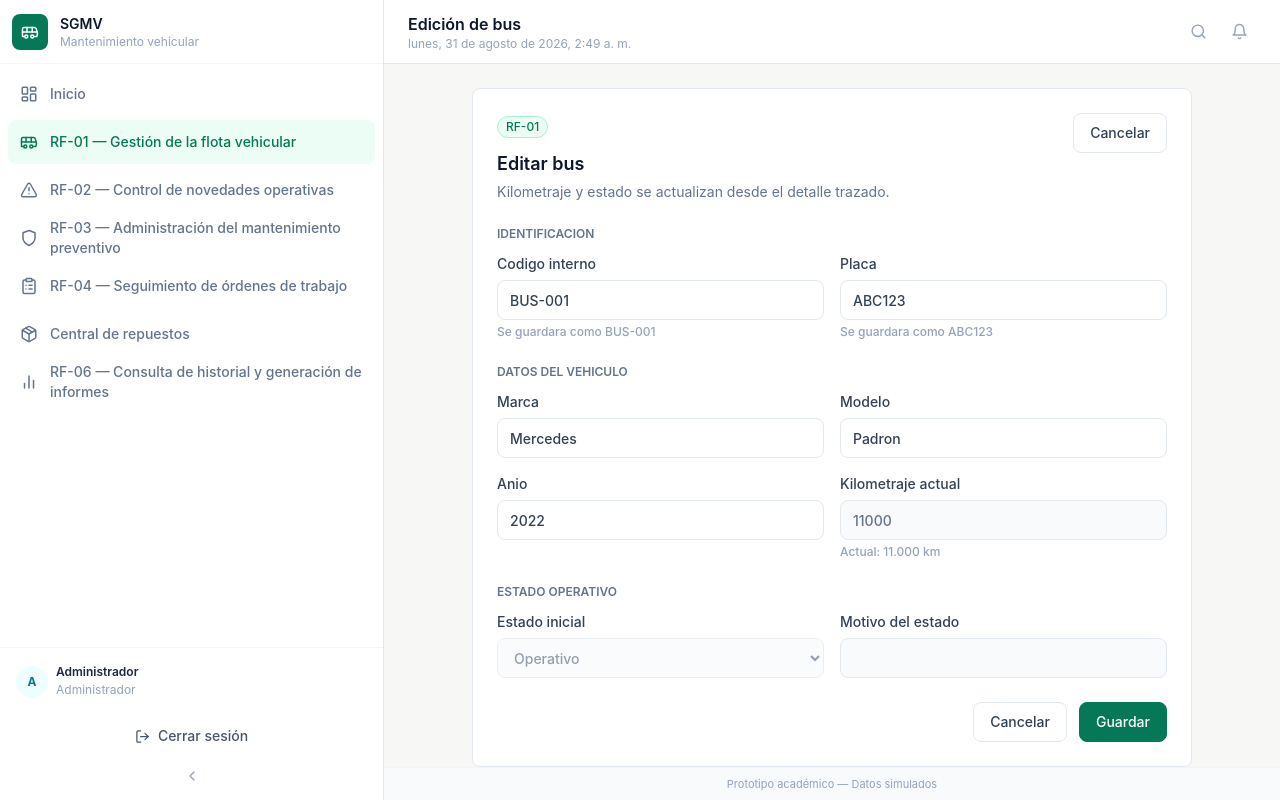
Test: RF-01 fleet frontend › edits a bus through the real PATCH endpoint
Step 1. Replace the text in the field labelled "Marca" with "Volvo" → (660, 438), box [497,418,824,458]
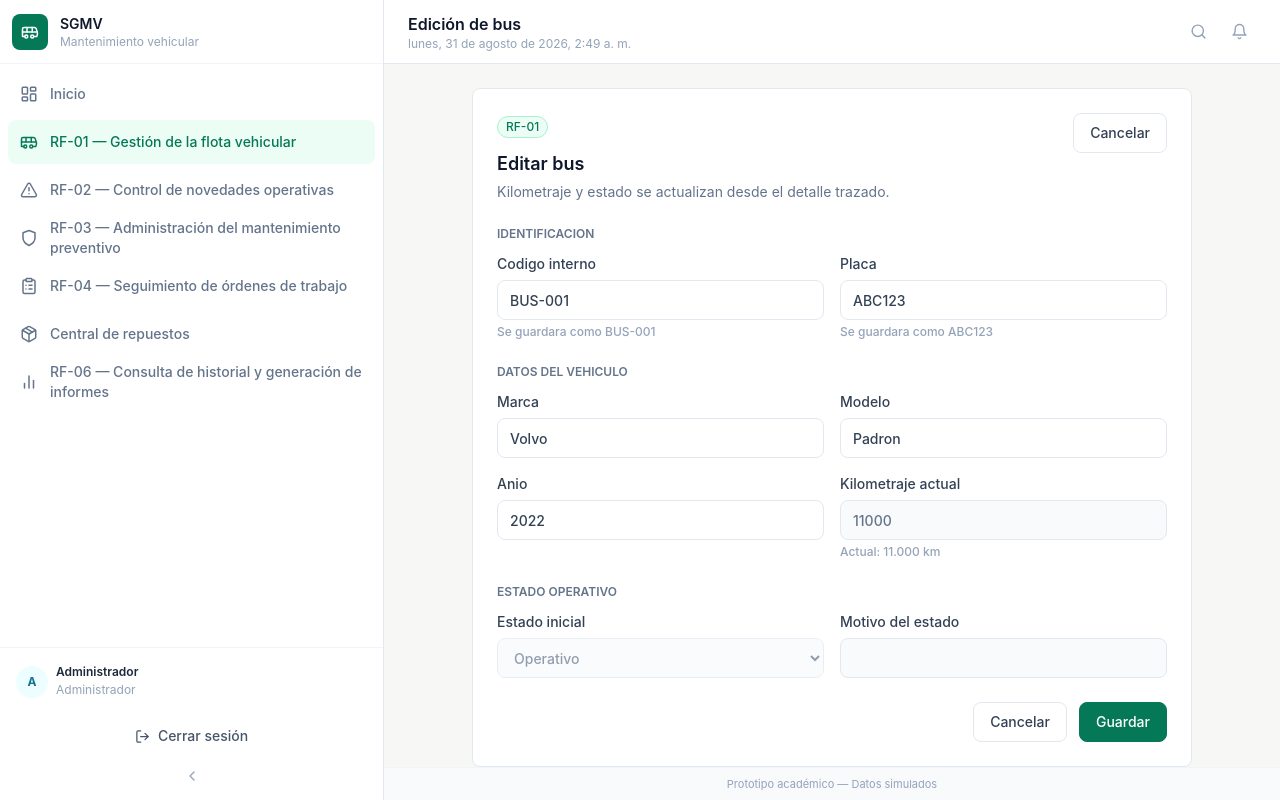
Step 2. Click the button "Guardar" → (1123, 722), box [1079,702,1167,742]
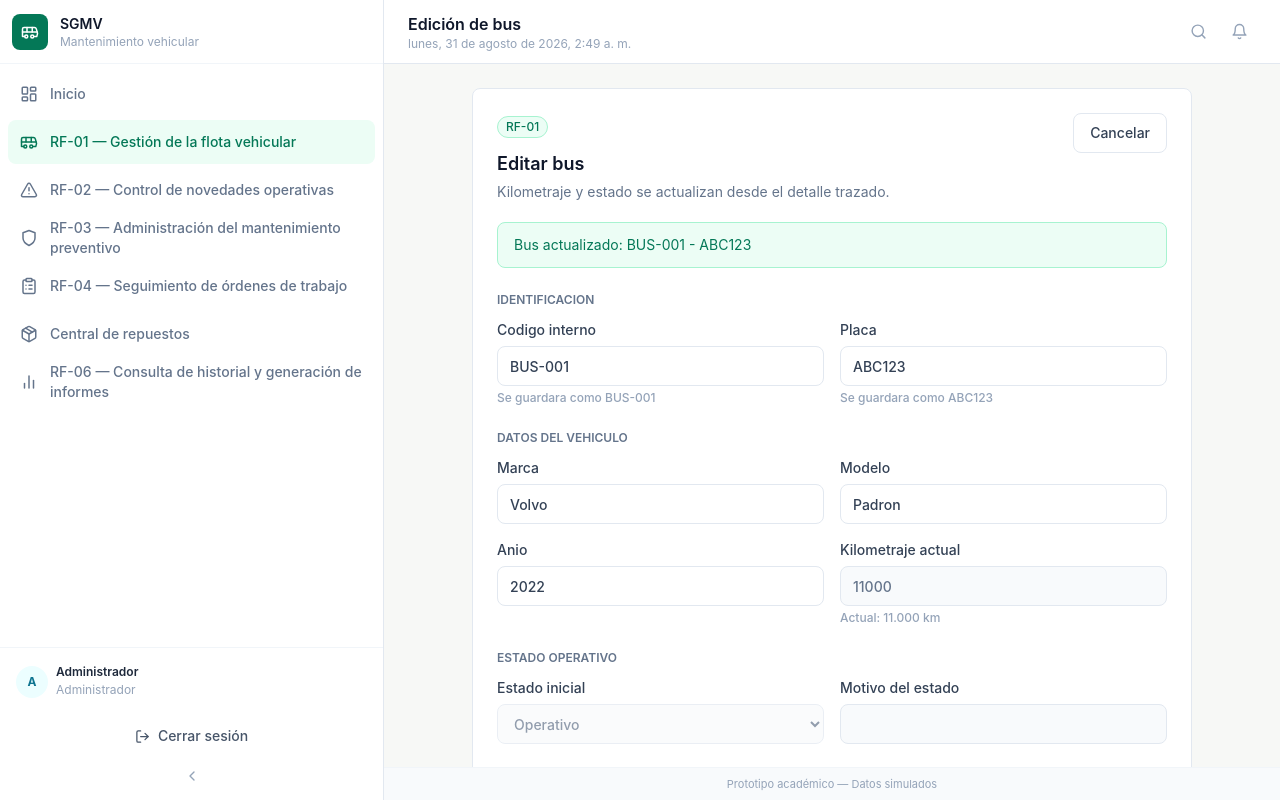
Check: the text "Bus actualizado: BUS-001 - ABC123" is shown, box [497,222,1167,268]
